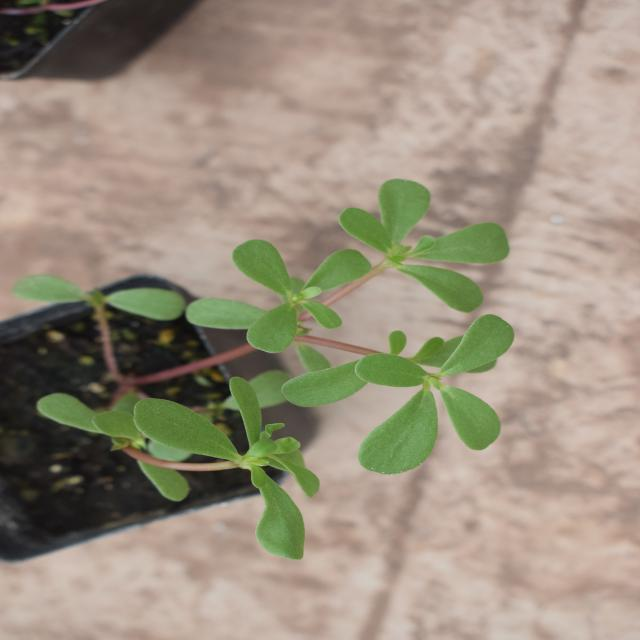purslane: (94, 98, 466, 512)
